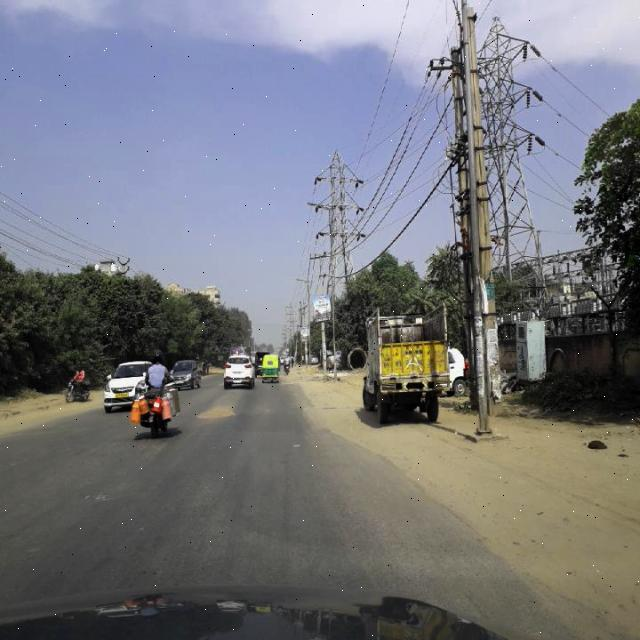D40: (193, 400, 237, 427)
